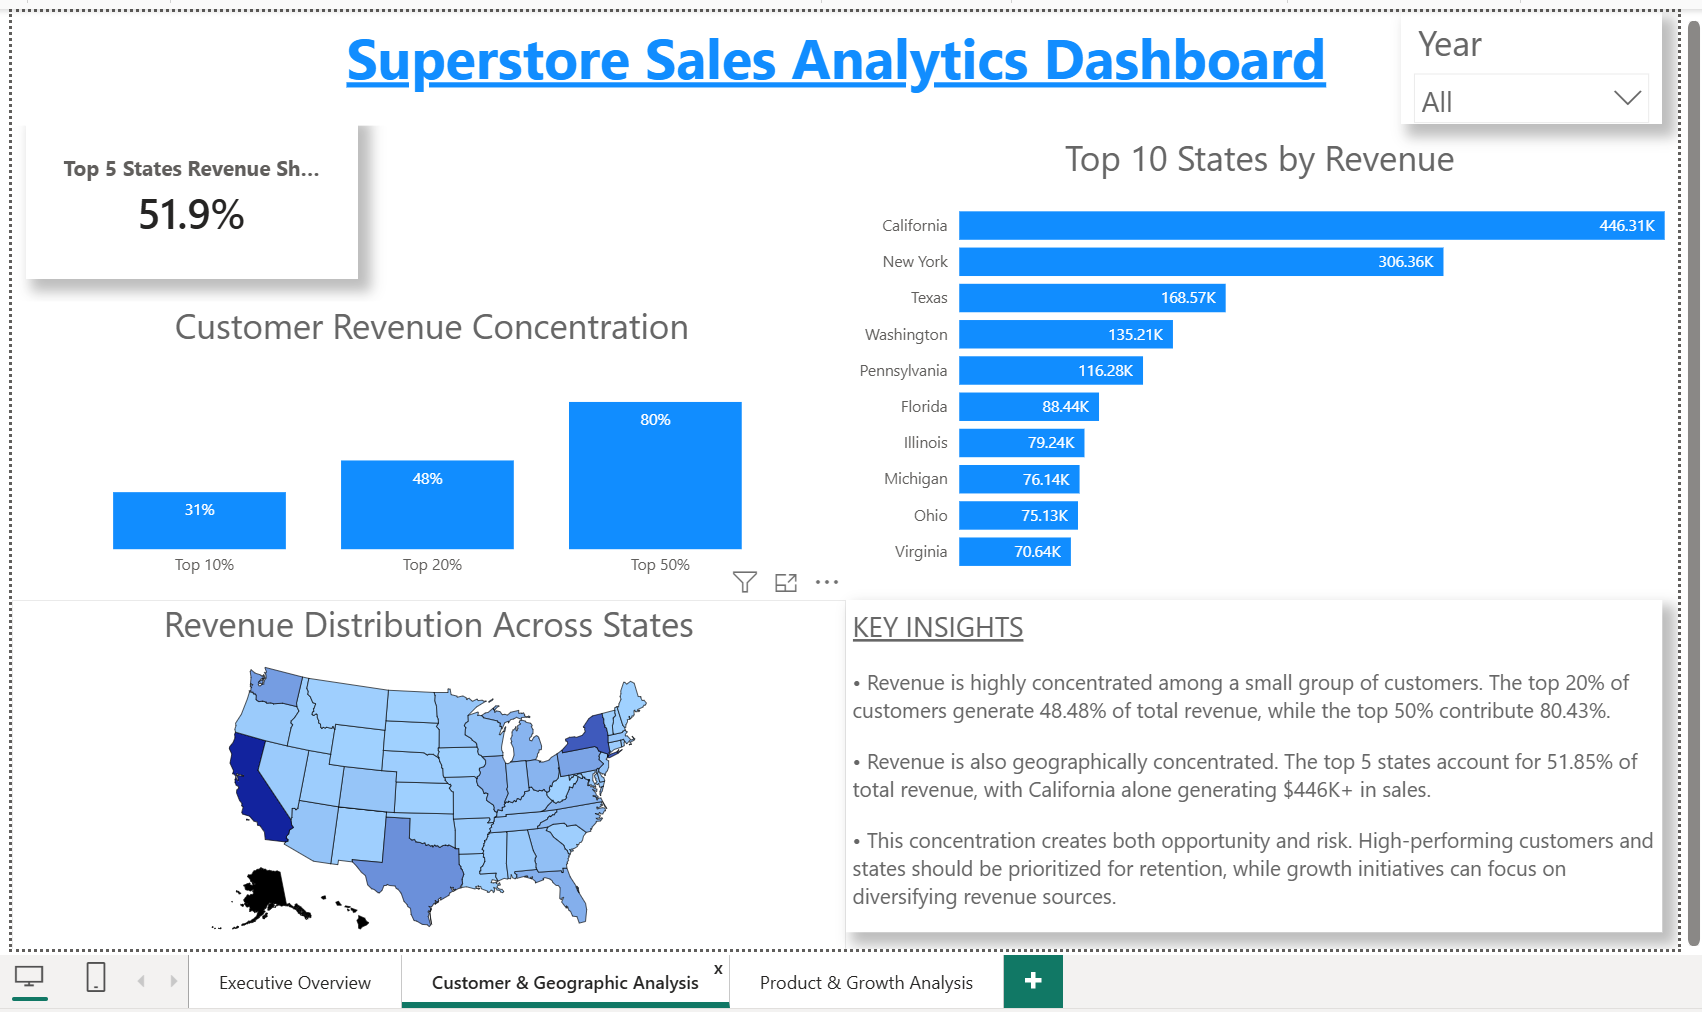

The page's visual inventory and layout, read from the dashboard file:
{"tool":"powerbi","page":{"name":"Customer & Geographic Analysis","canvas":[1280,720],"ordinal":1},"visuals":[{"type":"cardVisual","fields":{"Data":["train.Top 5 States Contribution"]},"box":[10,80,255.1,125],"z":0},{"type":"textbox","box":[0,0,1067.1,87.6],"z":1000},{"type":"clusteredColumnChart","title":"Customer Revenue Concentration","fields":{"Category":["CustomerGroups.Customer Group"],"Y":["CustomerGroups.CustomerConcentrationPct"]},"box":[1.9,222,640.6,220],"z":2000},{"type":"clusteredBarChart","title":"Top 10 States by Revenue","fields":{"Category":["train.State"],"Y":["train.Total Revenue"]},"box":[638.7,93.5,640.6,348.6],"z":3000},{"type":"shapeMap","title":"Revenue Distribution Across States","fields":{"Category":["train.State"],"Value":["train.Total Revenue"]},"box":[0,451.8,640.6,268.7],"z":4000},{"type":"textbox","box":[640.6,451.8,627,255.1],"z":5000},{"type":"slicer","fields":{"Values":["train.Year"]},"box":[1068,0,200.6,85.7],"z":6000}]}

Visuals, with their boxes on the page's 1280x720 design canvas (x1, y1, x2, y2). These are canvas units, not pixel positions in the 1702x1012 screenshot, which may show the page scaled, cropped or inside an application window:
cardVisual - train.Top 5 States Contribution: region(10, 80, 265, 205)
textbox: region(0, 0, 1067, 88)
"Customer Revenue Concentration" clusteredColumnChart: region(2, 222, 642, 442)
"Top 10 States by Revenue" clusteredBarChart: region(639, 94, 1279, 442)
"Revenue Distribution Across States" shapeMap: region(0, 452, 641, 720)
textbox: region(641, 452, 1268, 707)
slicer - train.Year: region(1068, 0, 1269, 86)
